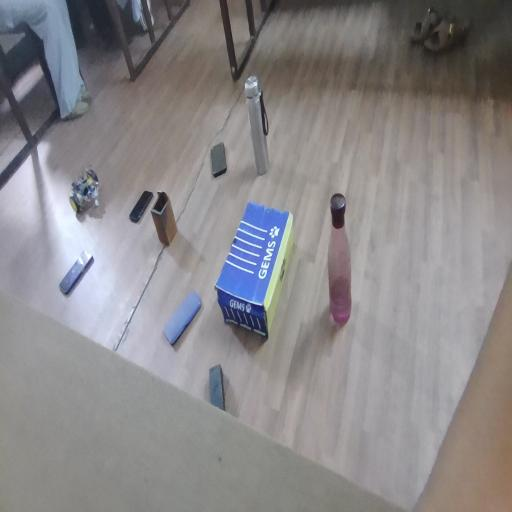Bottle: (318, 157, 366, 321)
car: (58, 161, 108, 211)
